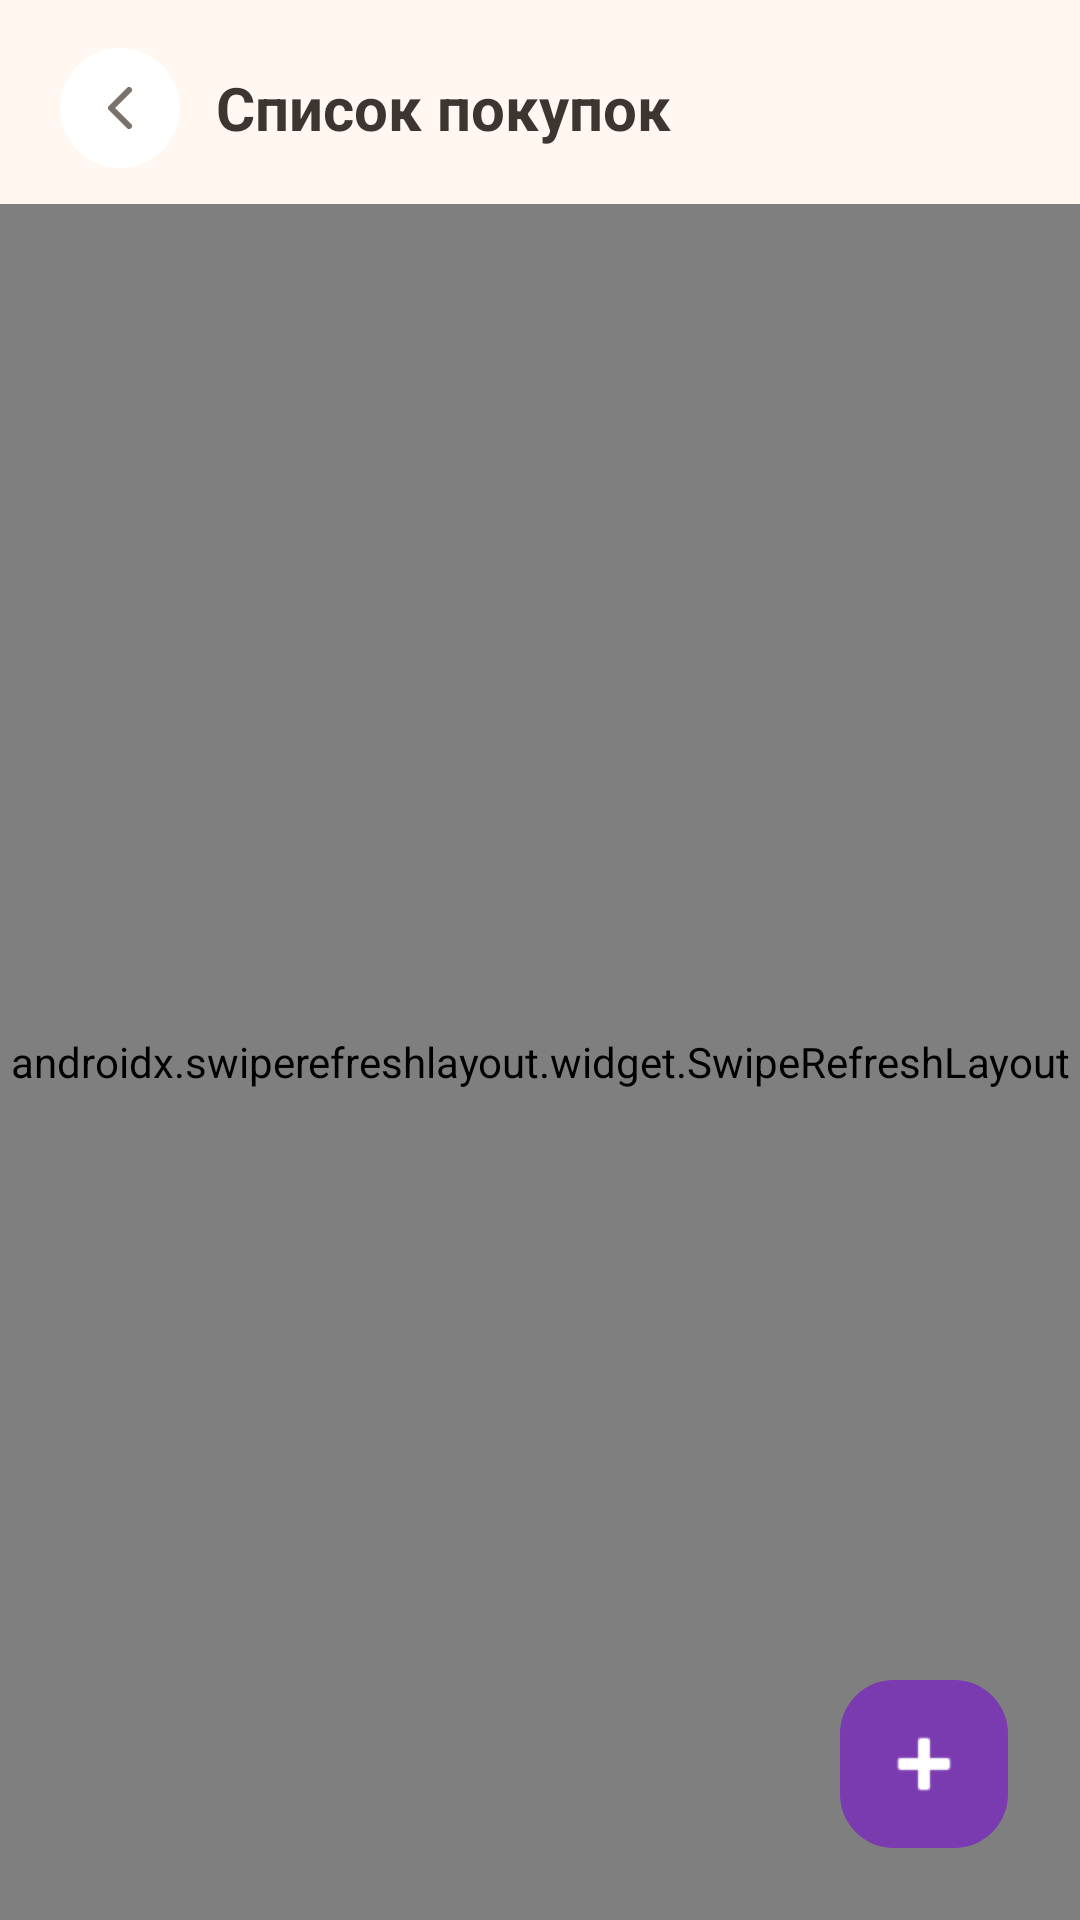

Screen size 1080 x 1920. Icon name, then its center in pixels as point (x, y):
Добавить в список: point (924, 1764)
Назад: point (120, 108)
